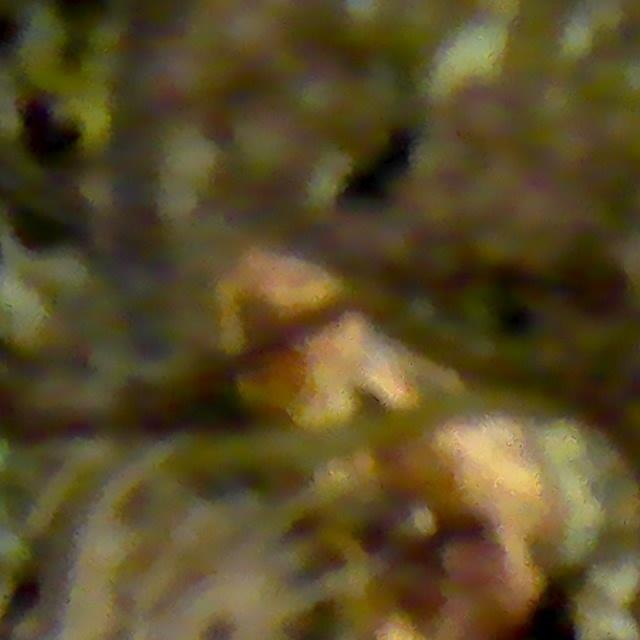SeaGrape: (228, 106, 305, 184), (457, 88, 514, 146), (416, 236, 465, 286), (472, 220, 519, 267), (0, 529, 30, 569)
